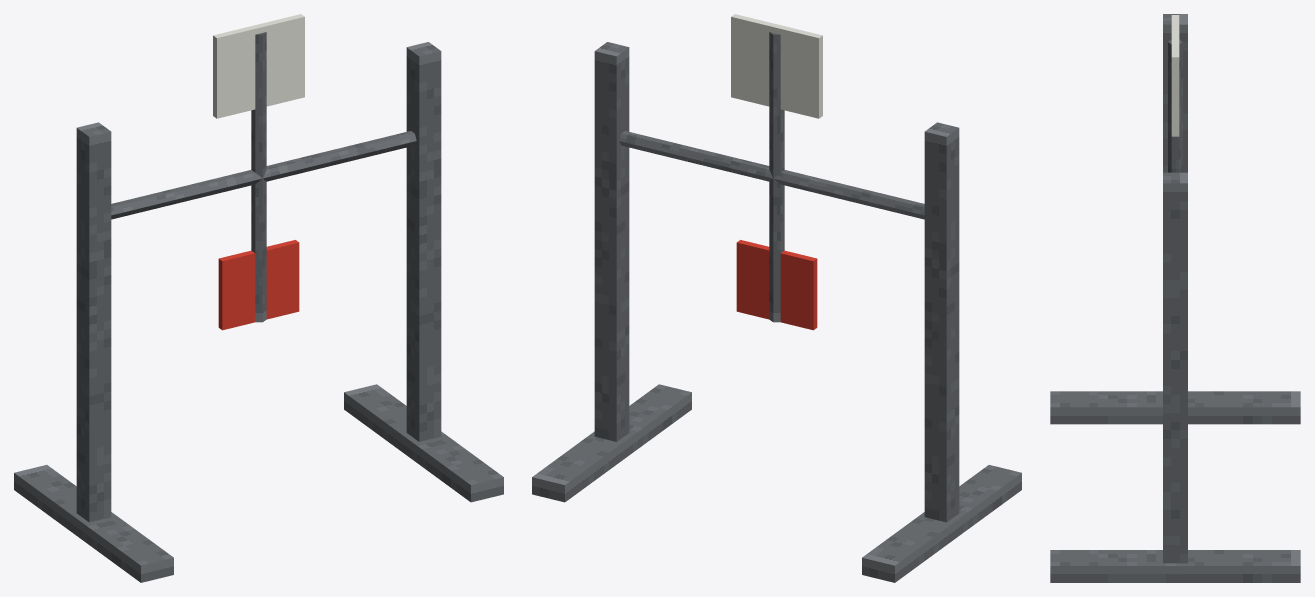
File: tr_target_spinner.glb
3 renders of one model, left to right at view 1: azimuth 30°, elevation 25°; view 2: azimuth 150°, elevation 25°; view 3: azimuth 270°, elevation 25°, orthographic.
Visible parts, largest first — view 1: block_upright (×2), block_foot (×2), block_plate (×2), block_pivot, block_oar pipe; view 2: block_upright (×2), block_foot (×2), block_plate (×2), block_pivot, block_oar pipe; view 3: block_foot (×2), block_upright (×2), block_oar pipe, block_plate.
Boxes of the visible parts, <box> form: block_upright (×2): <box>76,42,441,522</box>; block_foot (×2): <box>14,384,503,582</box>; block_plate (×2): <box>213,14,304,330</box>; block_pivot: <box>111,131,416,219</box>; block_oar pipe: <box>251,32,266,322</box>; block_upright (×2): <box>594,42,959,522</box>; block_foot (×2): <box>532,384,1021,582</box>; block_plate (×2): <box>731,14,822,330</box>; block_pivot: <box>619,131,924,219</box>; block_oar pipe: <box>769,32,784,322</box>; block_foot (×2): <box>1050,391,1300,582</box>; block_upright (×2): <box>1163,14,1187,563</box>; block_oar pipe: <box>1168,39,1182,172</box>; block_plate: <box>1171,15,1179,136</box>.
Bounding box in the file's own units: 0.66 × 0.81 × 0.4.
1 material, 1 textured.
